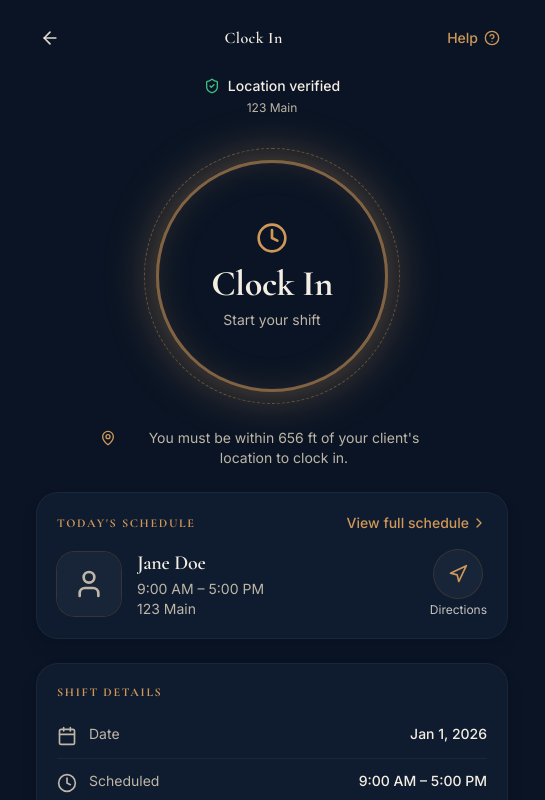
Test case: Caregiver clock-in / clock-out flow › blocks clock-in when caregiver is outside the geofence
Click the button "Clock In Start your shift": click(272, 276) [144, 148, 400, 404]
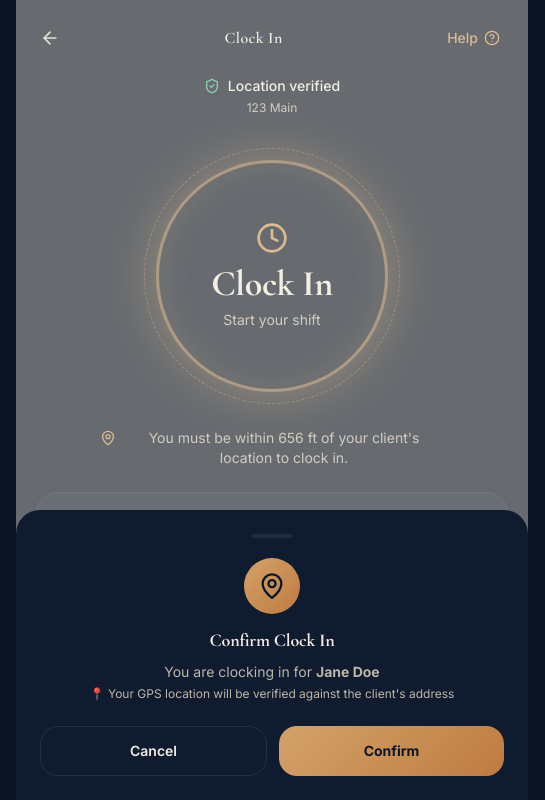
Click the button "Confirm": click(392, 751) [279, 726, 504, 776]
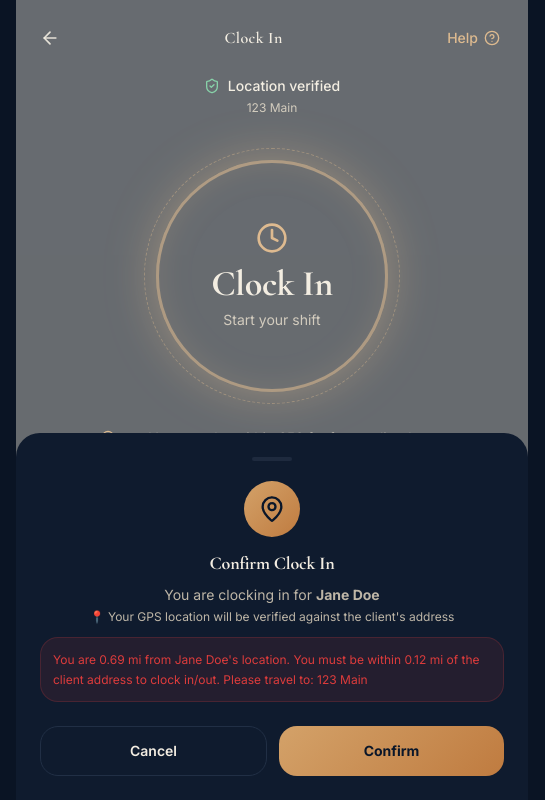
Expected: the text "Location Verification Failed" is shown, [81, 510, 265, 527]
